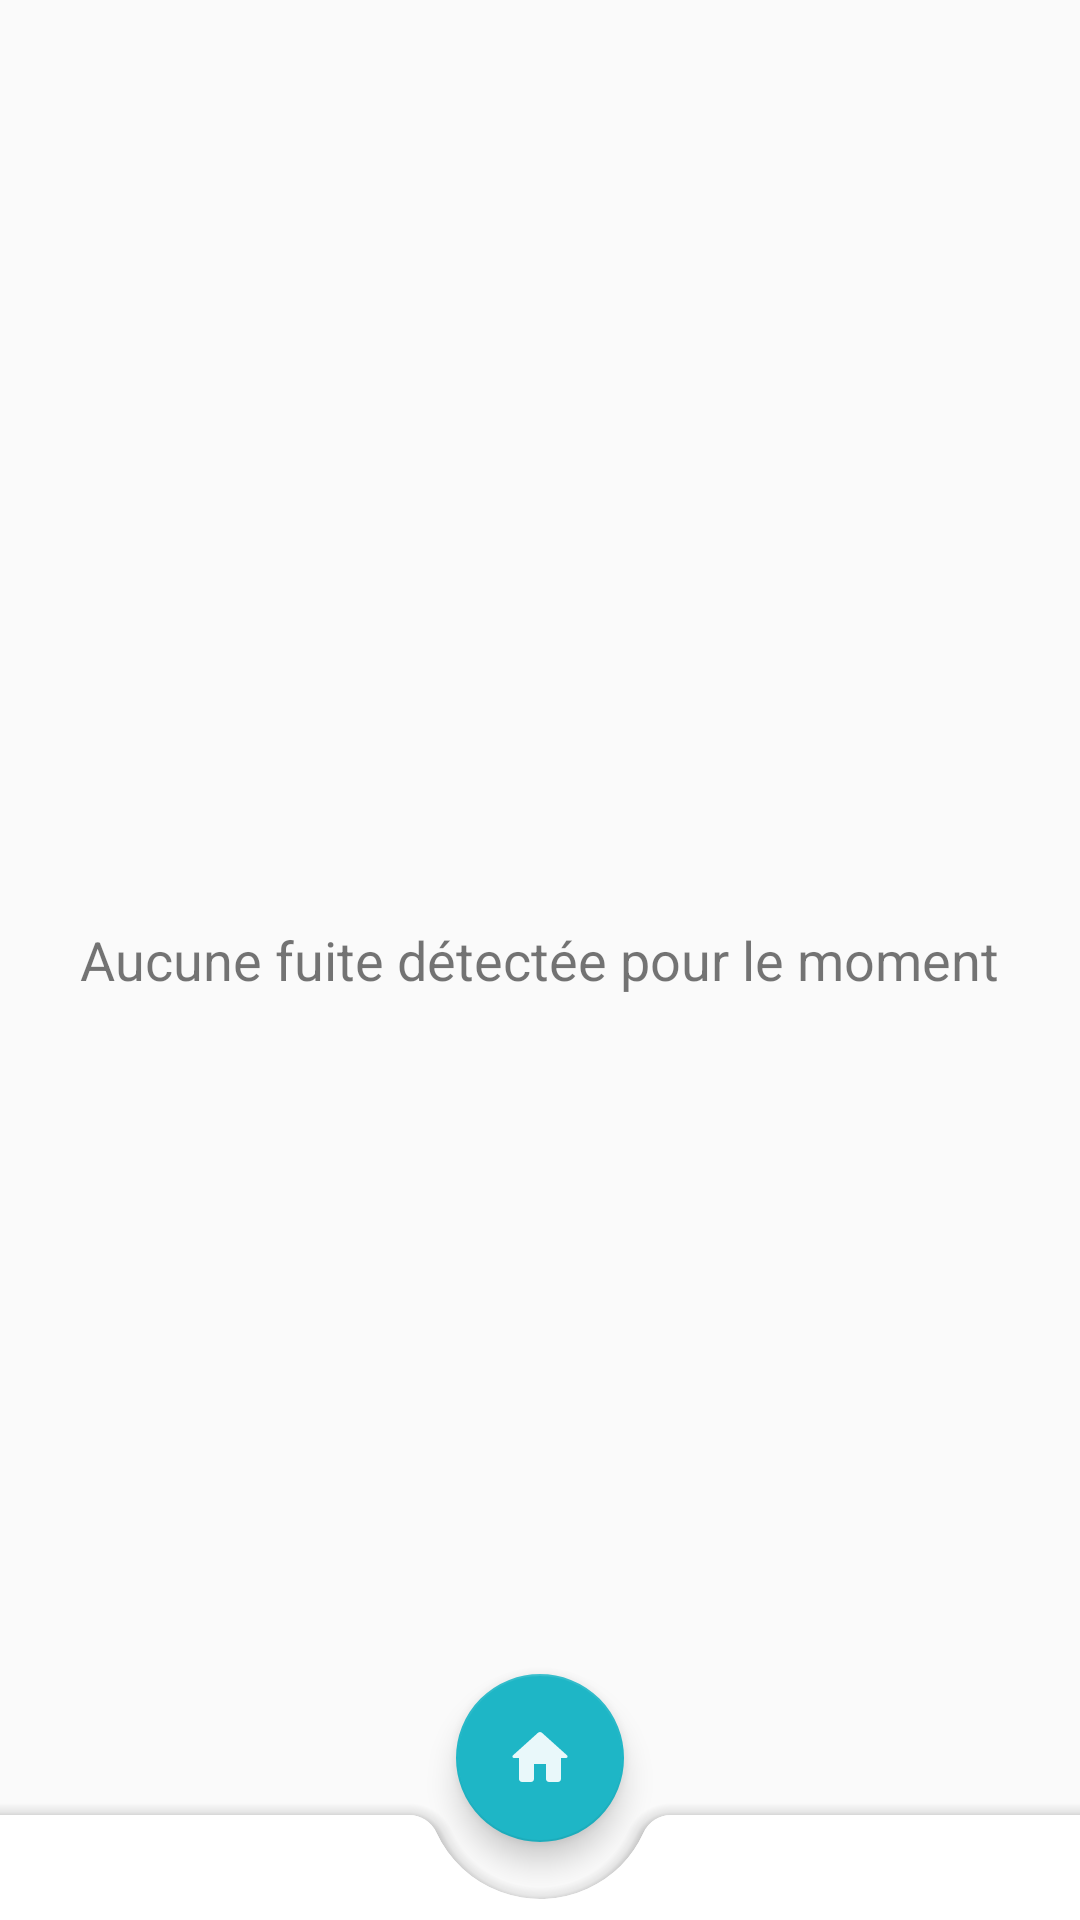

Icon click points for this 1080*1920 phone screenshot, format point (x, y):
home: point (540, 1788)
